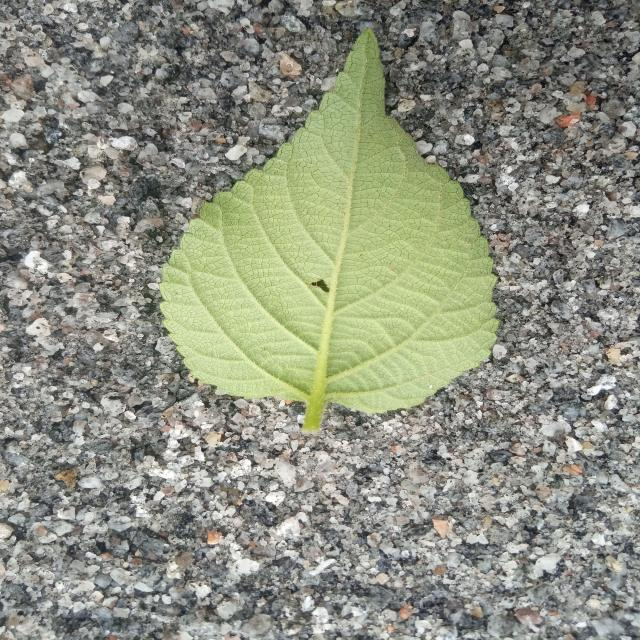Lantana: (162, 31, 498, 432)
